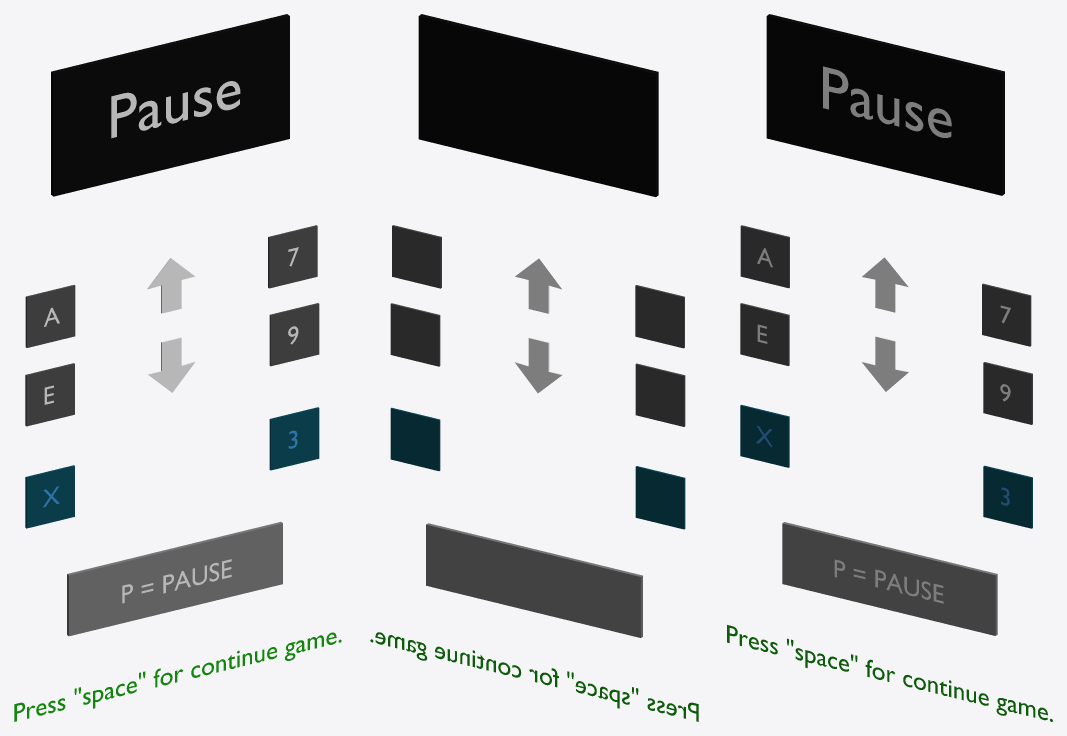
Rendered from MenuPause.glb.
3 renders of one model, left to right at view 1: azimuth 30°, elevation 25°; view 2: azimuth 150°, elevation 25°; view 3: azimuth 330°, elevation 25°, orthographic.
Parts seen in each view (by area): view 1: Cube, Cube.001, 3, 9, a, 7, e, x, Text.002, Text, haut.001, haut.002 (+1 smaller); view 2: Cube, Cube.001, 9, e, x, 3, a, 7, Text.002, haut.001, haut.002; view 3: Cube, Cube.001, 7, 3, e, 9, x, a, Text.002, Text, haut.001, haut.002 (+1 smaller).
Part boxes in pixels (x1,y1,x2,y2): Cube: [51, 14, 289, 196]; Cube.001: [67, 522, 282, 636]; 3: [269, 407, 319, 470]; 9: [269, 303, 319, 366]; a: [25, 285, 75, 347]; 7: [268, 225, 317, 288]; e: [25, 363, 74, 426]; x: [25, 465, 74, 528]; Text.002: [14, 632, 341, 721]; Text: [111, 81, 240, 138]; haut.001: [147, 258, 194, 313]; haut.002: [147, 337, 194, 392]; Cube: [418, 14, 658, 196]; Cube.001: [426, 523, 642, 637]; 9: [390, 303, 440, 366]; e: [635, 363, 685, 426]; x: [635, 466, 685, 529]; 3: [390, 407, 440, 470]; a: [635, 285, 684, 348]; 7: [392, 225, 441, 288]; Text.002: [370, 632, 698, 721]; haut.001: [515, 258, 562, 313]; haut.002: [515, 337, 562, 392]; Cube: [766, 14, 1004, 195]; Cube.001: [782, 522, 997, 635]; 7: [982, 283, 1031, 346]; 3: [983, 465, 1032, 528]; e: [740, 303, 789, 365]; 9: [983, 362, 1032, 424]; x: [740, 405, 789, 467]; a: [740, 225, 789, 288]; Text.002: [727, 625, 1052, 721]; Text: [823, 66, 951, 137]; haut.001: [862, 257, 909, 312]; haut.002: [862, 336, 909, 391].
Size of the model in its own units: 13.49 by 25.39 by 0.2362.
